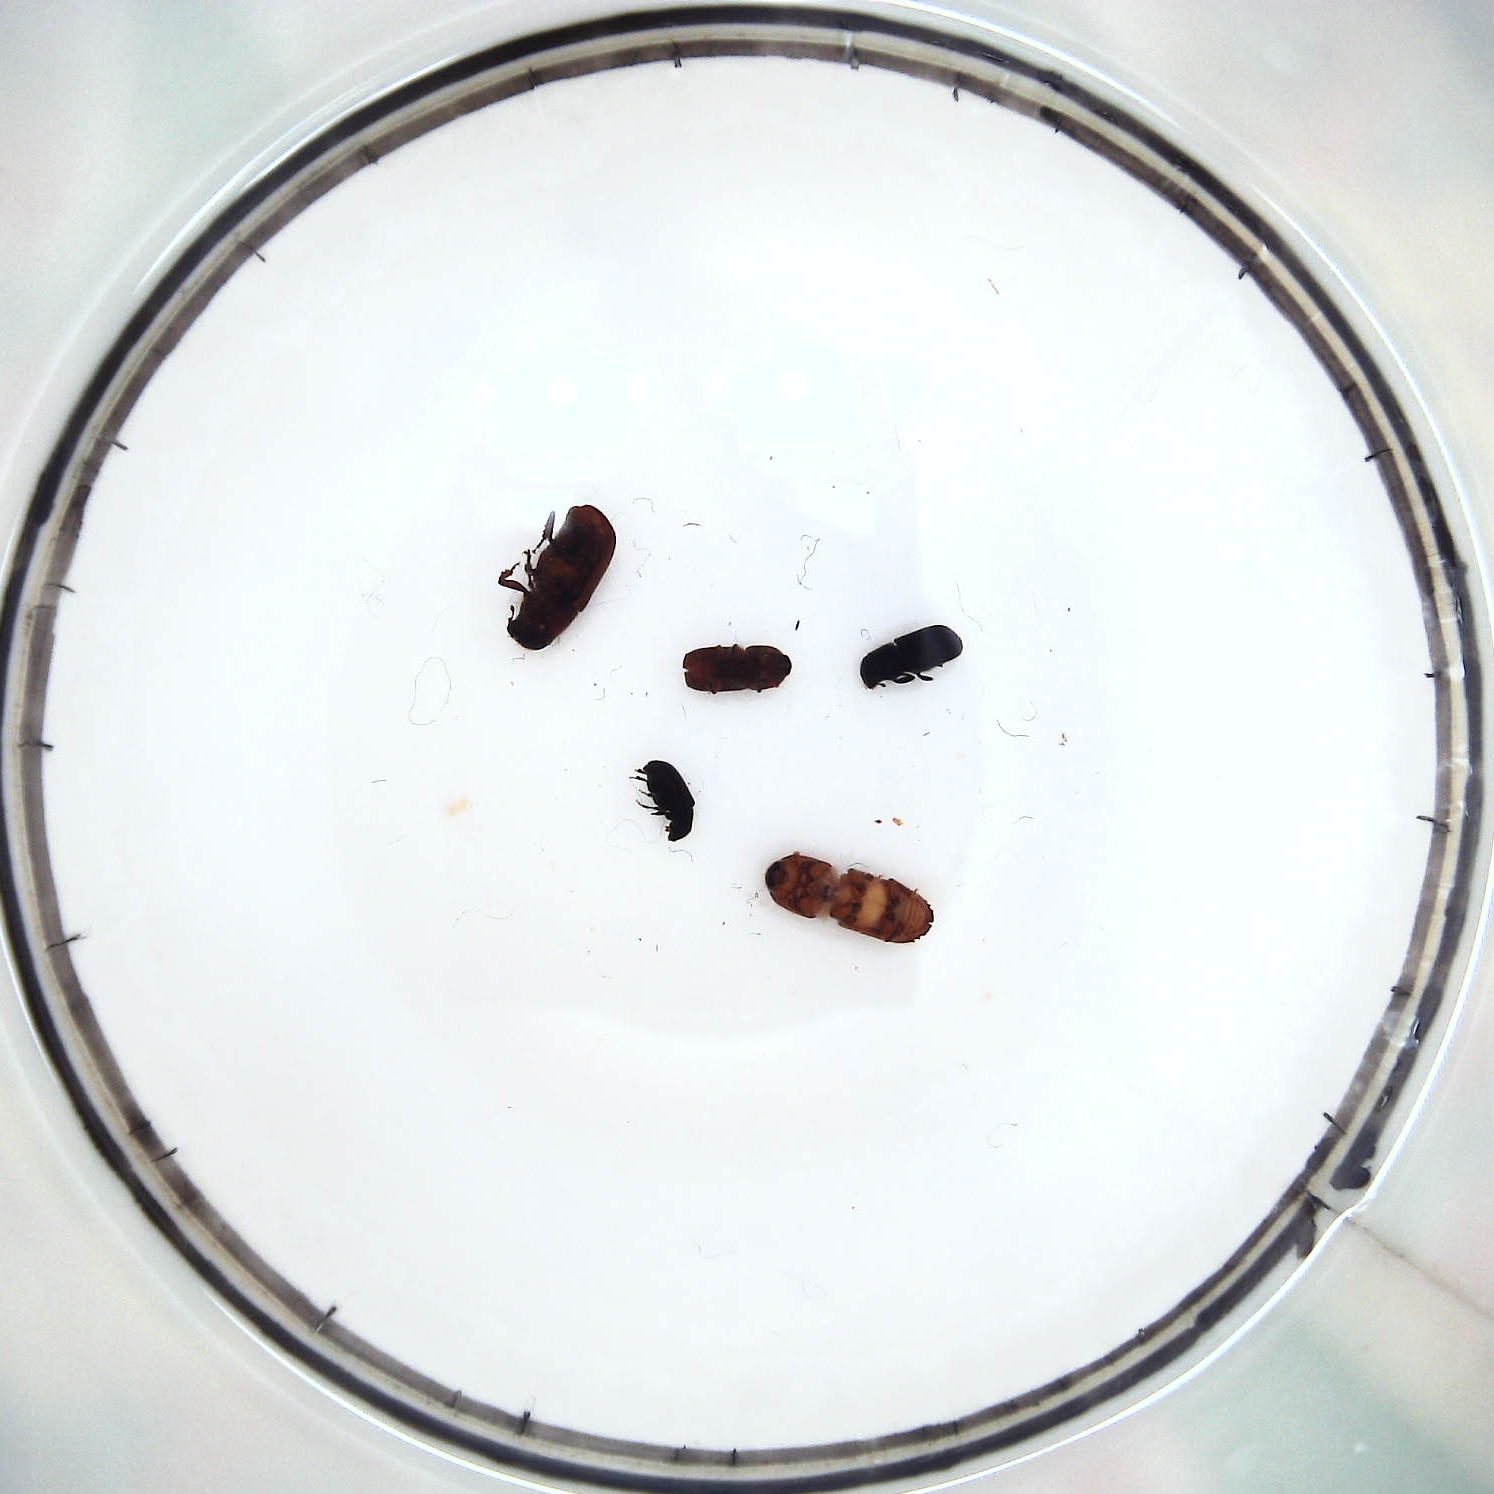Boerner: (763, 852, 939, 956)
Leconte: (501, 501, 618, 653)
Linnaeus: (681, 643, 794, 698)
armandi: (861, 621, 963, 691)
coleoptera: (633, 761, 699, 839)
